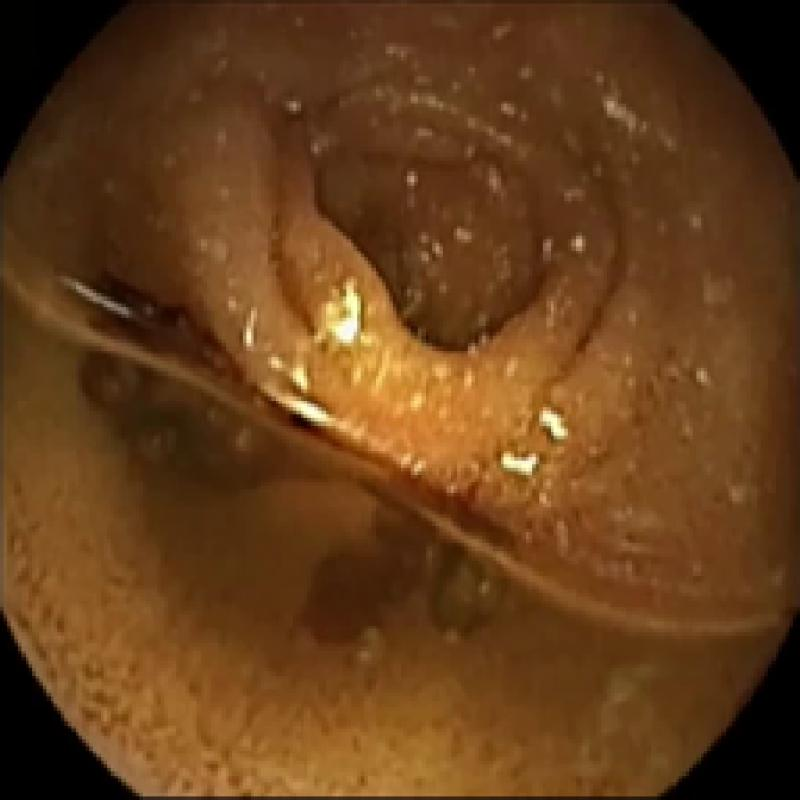bleeding: (310, 467, 518, 637), (61, 257, 264, 404)
